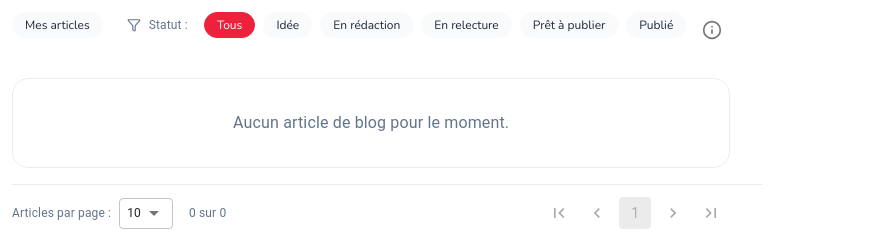
Test case: BlogPosts Pagination › réinitialise simultanément le statut et le filtre personnel lors du clic sur Réinitialiser
Click the button "Mes articles" at (57, 25), box [12,12,103,38]
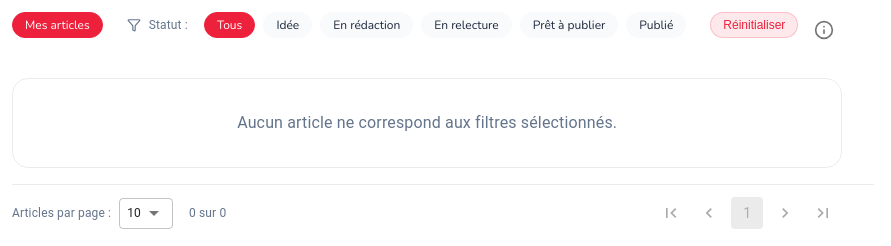
Click the button "Idée" at (288, 25), box [263,12,312,38]
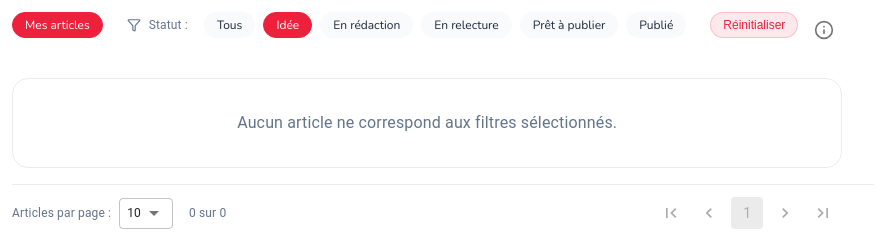
Click the button "Réinitialiser" at (754, 25), box [710,12,798,38]
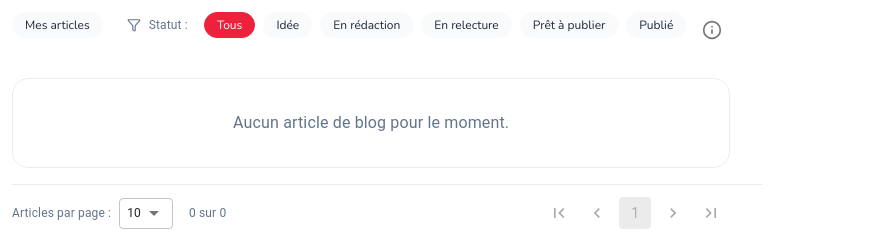
Check: the button "Réinitialiser" is gone
